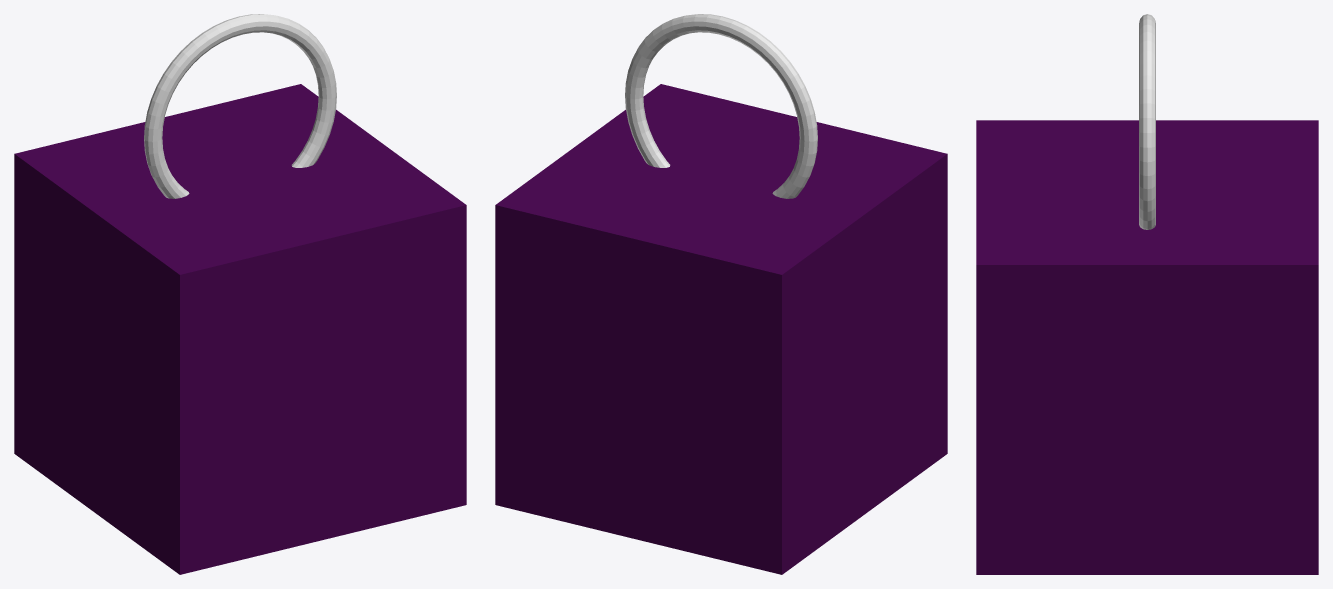
Rendered from bat.dae.
3 views of the same model, side by side, from view 1: azimuth 30°, elevation 25°; view 2: azimuth 150°, elevation 25°; view 3: azimuth 270°, elevation 25° (orthographic). The views are drawn at different scales.
Parts seen in each view (by area): view 1: Cube_151, Torus_019; view 2: Cube_151, Torus_019; view 3: Cube_151, Torus_019.
Part boxes in pixels (x1,y1,x2,y2): Cube_151: (14,84,466,574); Torus_019: (144,14,336,198); Cube_151: (495,84,947,574); Torus_019: (625,14,817,198); Cube_151: (976,120,1318,574); Torus_019: (1139,14,1155,229).
Size of the model in its own units: 0.06 by 0.06 by 0.0925.
